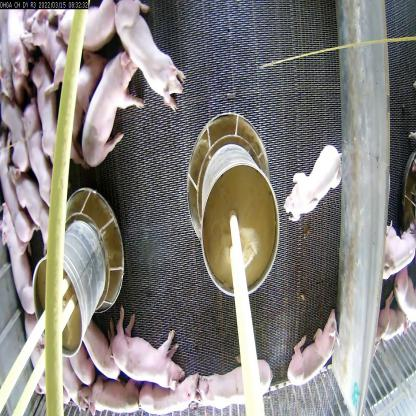Pig: (115, 0, 189, 114), (83, 50, 138, 159), (107, 306, 178, 386), (283, 141, 341, 226), (24, 50, 66, 152), (288, 308, 338, 390), (194, 358, 270, 409), (15, 157, 55, 249), (0, 204, 32, 311), (58, 4, 119, 56), (22, 103, 53, 205), (85, 369, 144, 416), (21, 307, 50, 394), (136, 378, 202, 415), (84, 320, 123, 379), (72, 336, 98, 390)
